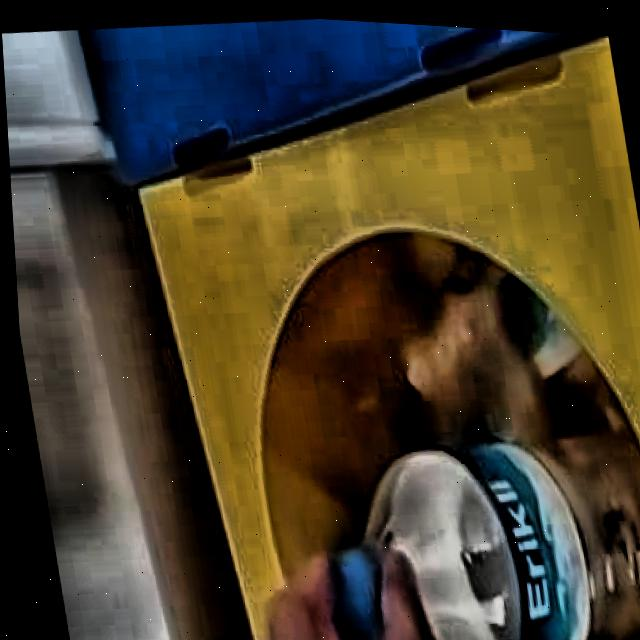plastic: (328, 425, 640, 640)
